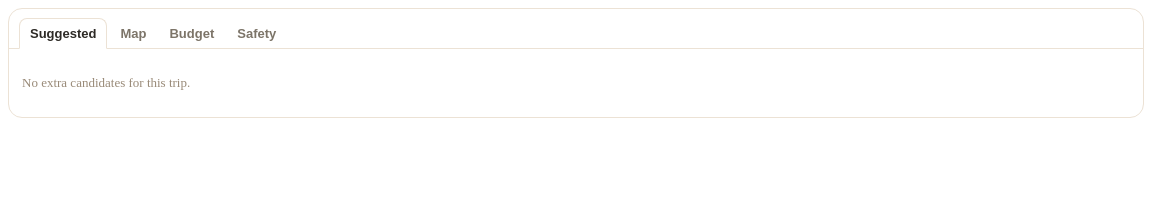
Scenario: Safety tab does not duplicate advisories already shown per-leg › still shows a trip-level advisory that has no per-leg counterpart (e.g. a compliance/health note)
Click the button "Safety" at [257, 33], box [227,18,286,48]
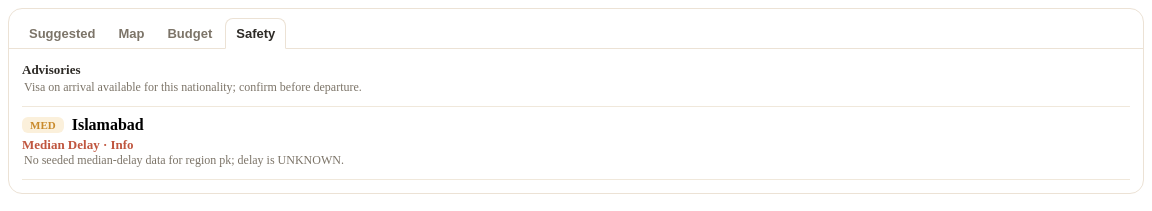
Expected: the element with test id "trip-advisories" is shown, [22,62,1130,107]
Expected: the text "Visa on arrival available for this nationality; confirm before departure." is shown once, [24,80,362,94]
Expected: the text "No seeded median-delay data for region pk; delay is UNKNOWN." is shown once, [24,153,344,167]
